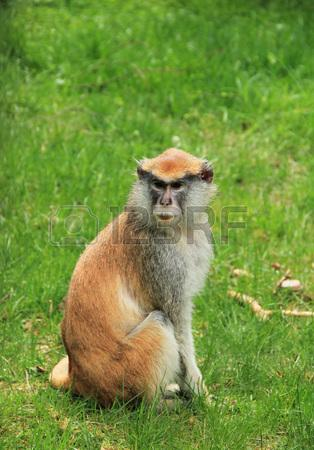monkey: (48, 148, 218, 411)
